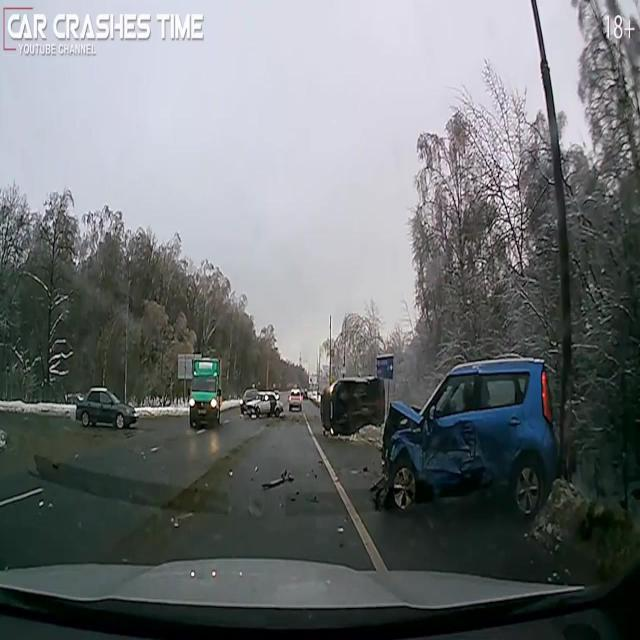accident: (316, 366, 391, 443)
